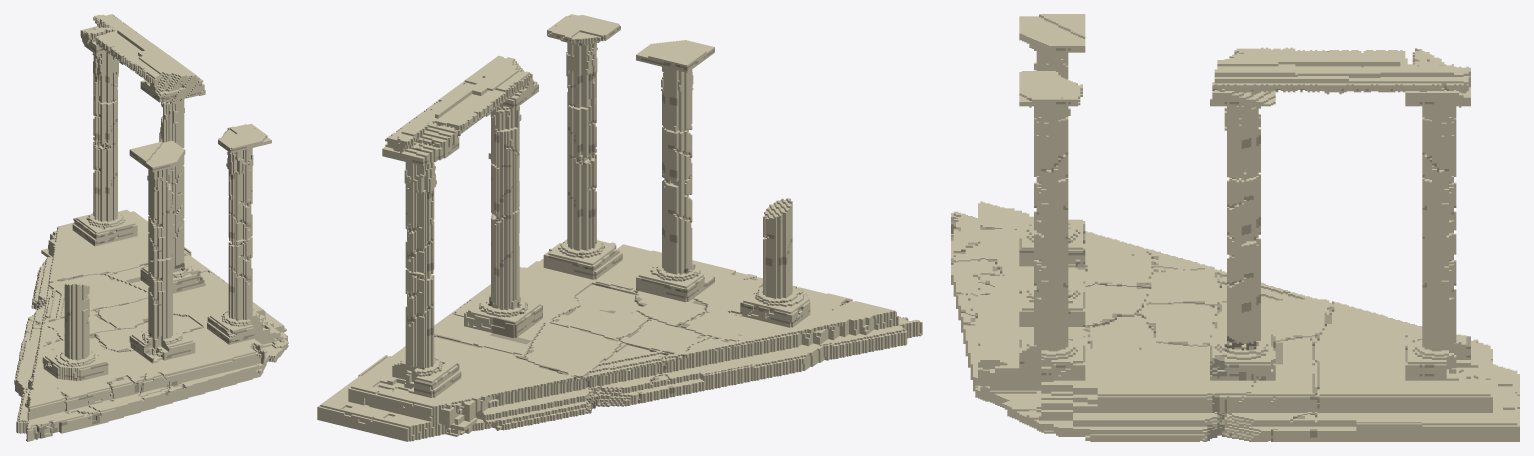
3 views of the same model, side by side, from view 1: azimuth 30°, elevation 25°; view 2: azimuth 150°, elevation 25°; view 3: azimuth 270°, elevation 25° (orthographic). The views are drawn at different scales.
Parts seen in each view (by area): view 1: VOX; view 2: VOX; view 3: VOX.
Part boxes in pixels (<box>): VOX: <box>14,14,288,441</box>; VOX: <box>317,14,922,441</box>; VOX: <box>951,14,1519,441</box>.
Bounding box in the file's own units: 0.207 × 0.154 × 0.233.
